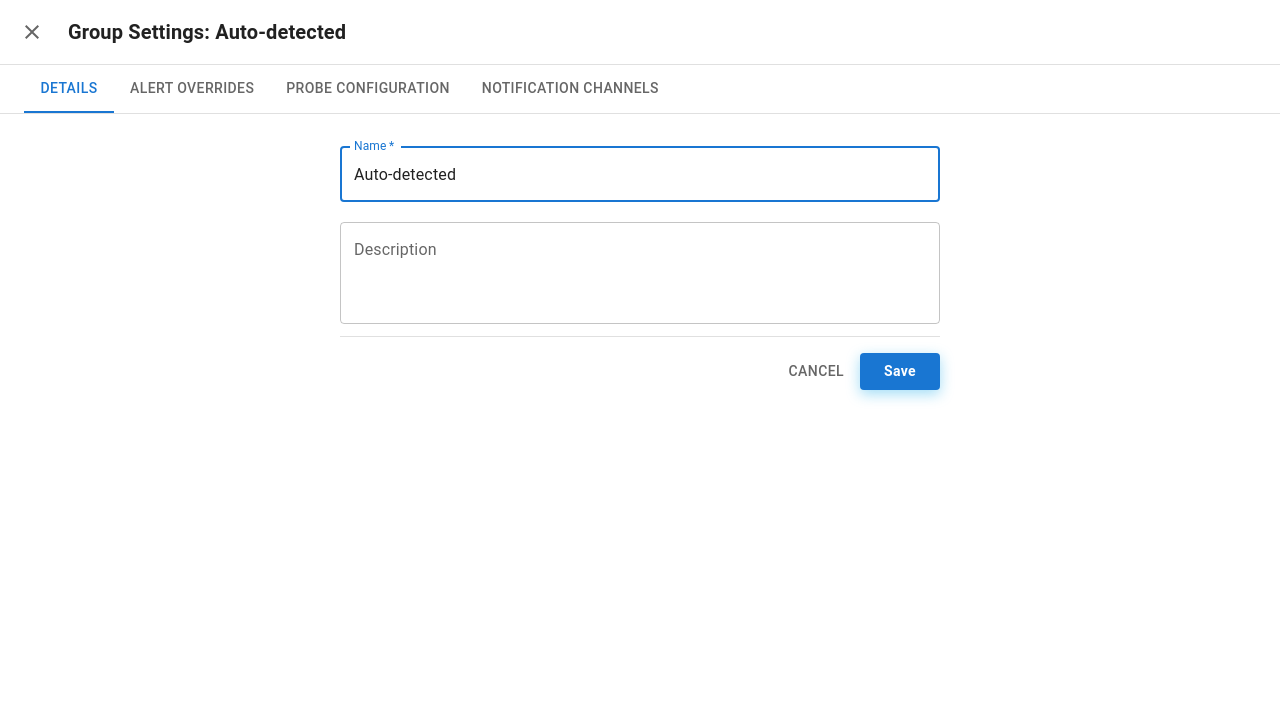
Scenario: GroupDialog › override panels for non-numeric groups › shows info alert instead of ProbeOverridesPanel for auto-detected group
This screenshot has width=1280, height=720.
Click the tab "Probe configuration" at (368, 89), box [270, 65, 466, 113]
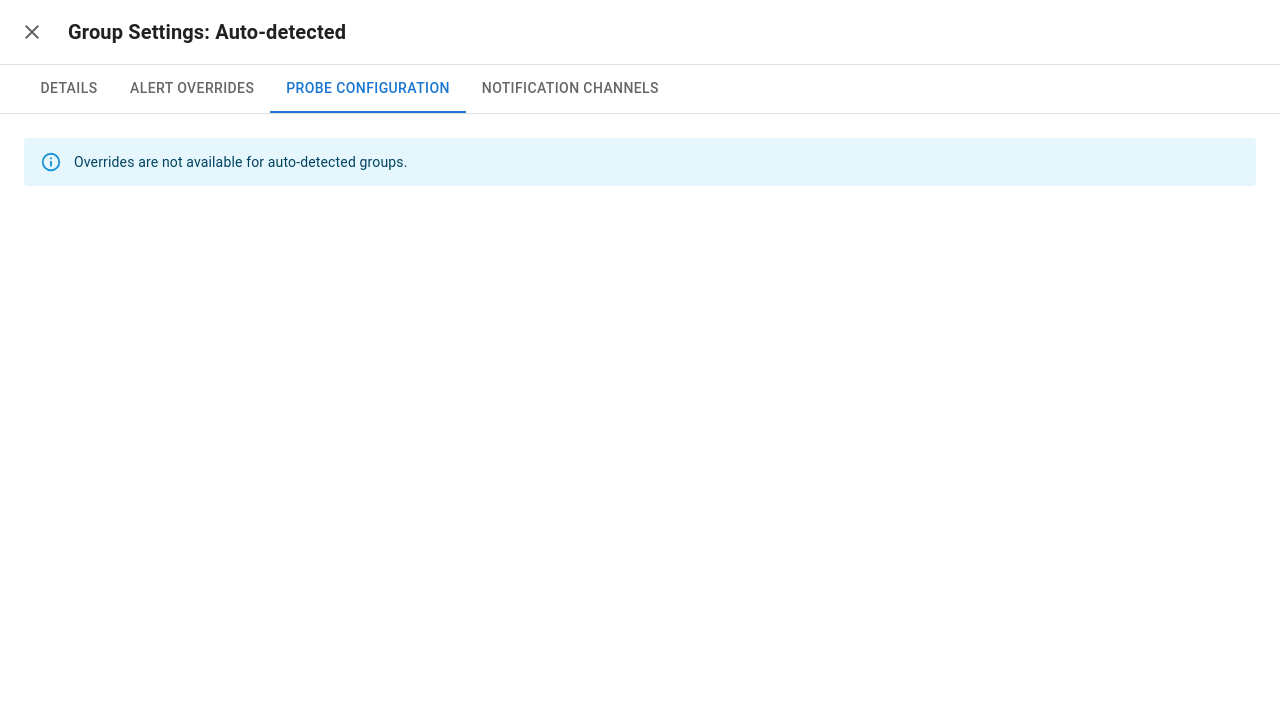
Expected: the text "Overrides are not available for auto-detected groups." is shown, [74, 154, 408, 170]
